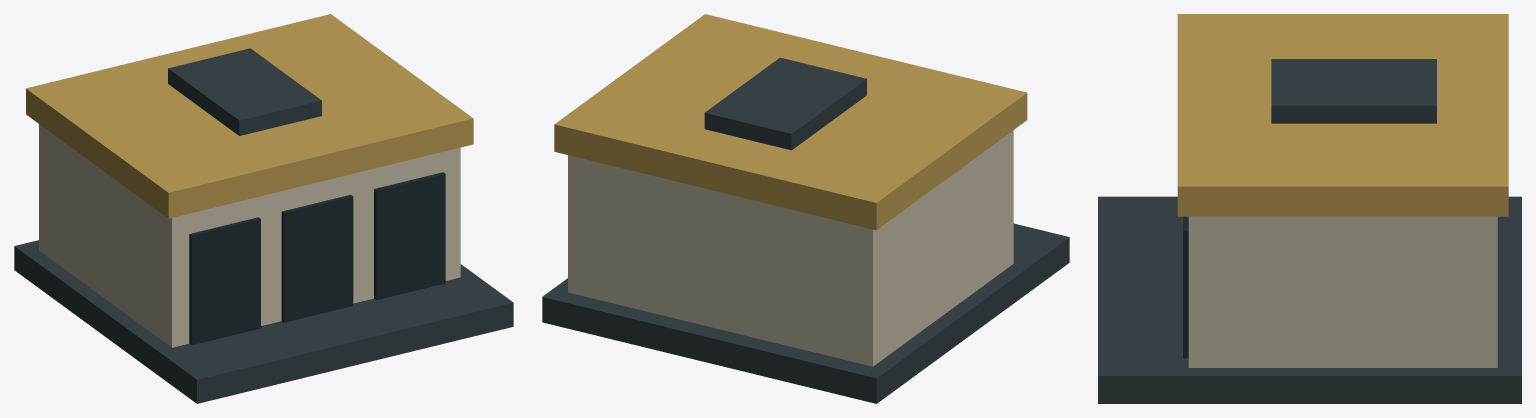
File: depot-lod1.53adcbc557f3.glb
The picture shows the model from 3 angles, left to right: view 1: azimuth 30°, elevation 25°; view 2: azimuth 150°, elevation 25°; view 3: azimuth 270°, elevation 25°; orthographic projection. The views are drawn at different scales.
Parts seen in each view (by area): view 1: body; view 2: body; view 3: body.
Boxes of the visible parts, x1=… form: body: x1=14, y1=14, x2=513, y2=403; body: x1=542, y1=14, x2=1069, y2=403; body: x1=1098, y1=14, x2=1521, y2=403.
Bounding box in the file's own units: 3.84 × 2.32 × 3.84.
